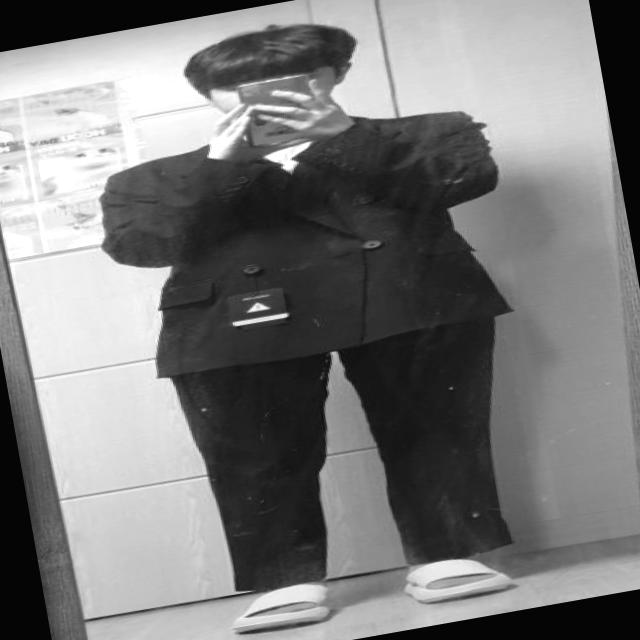blazer: (90, 91, 526, 385)
slacks: (168, 278, 534, 600)
